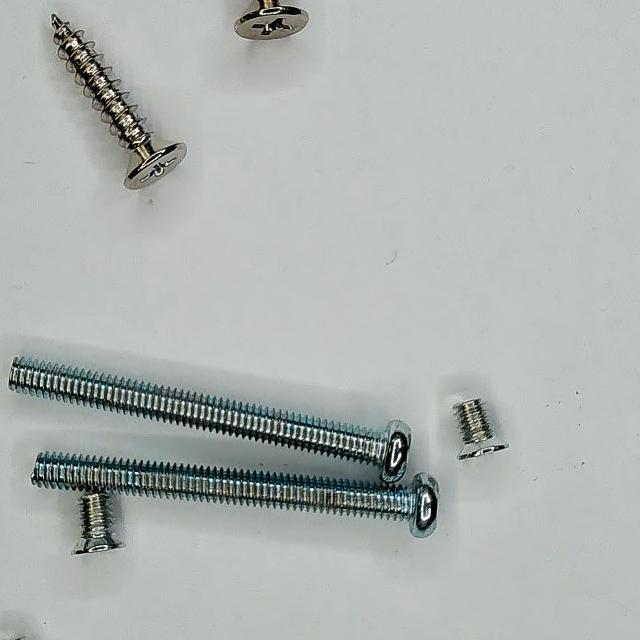Screw: (8, 357, 412, 484), (31, 453, 440, 539), (52, 13, 186, 190), (454, 399, 510, 460), (73, 494, 121, 556), (234, 0, 308, 38)
